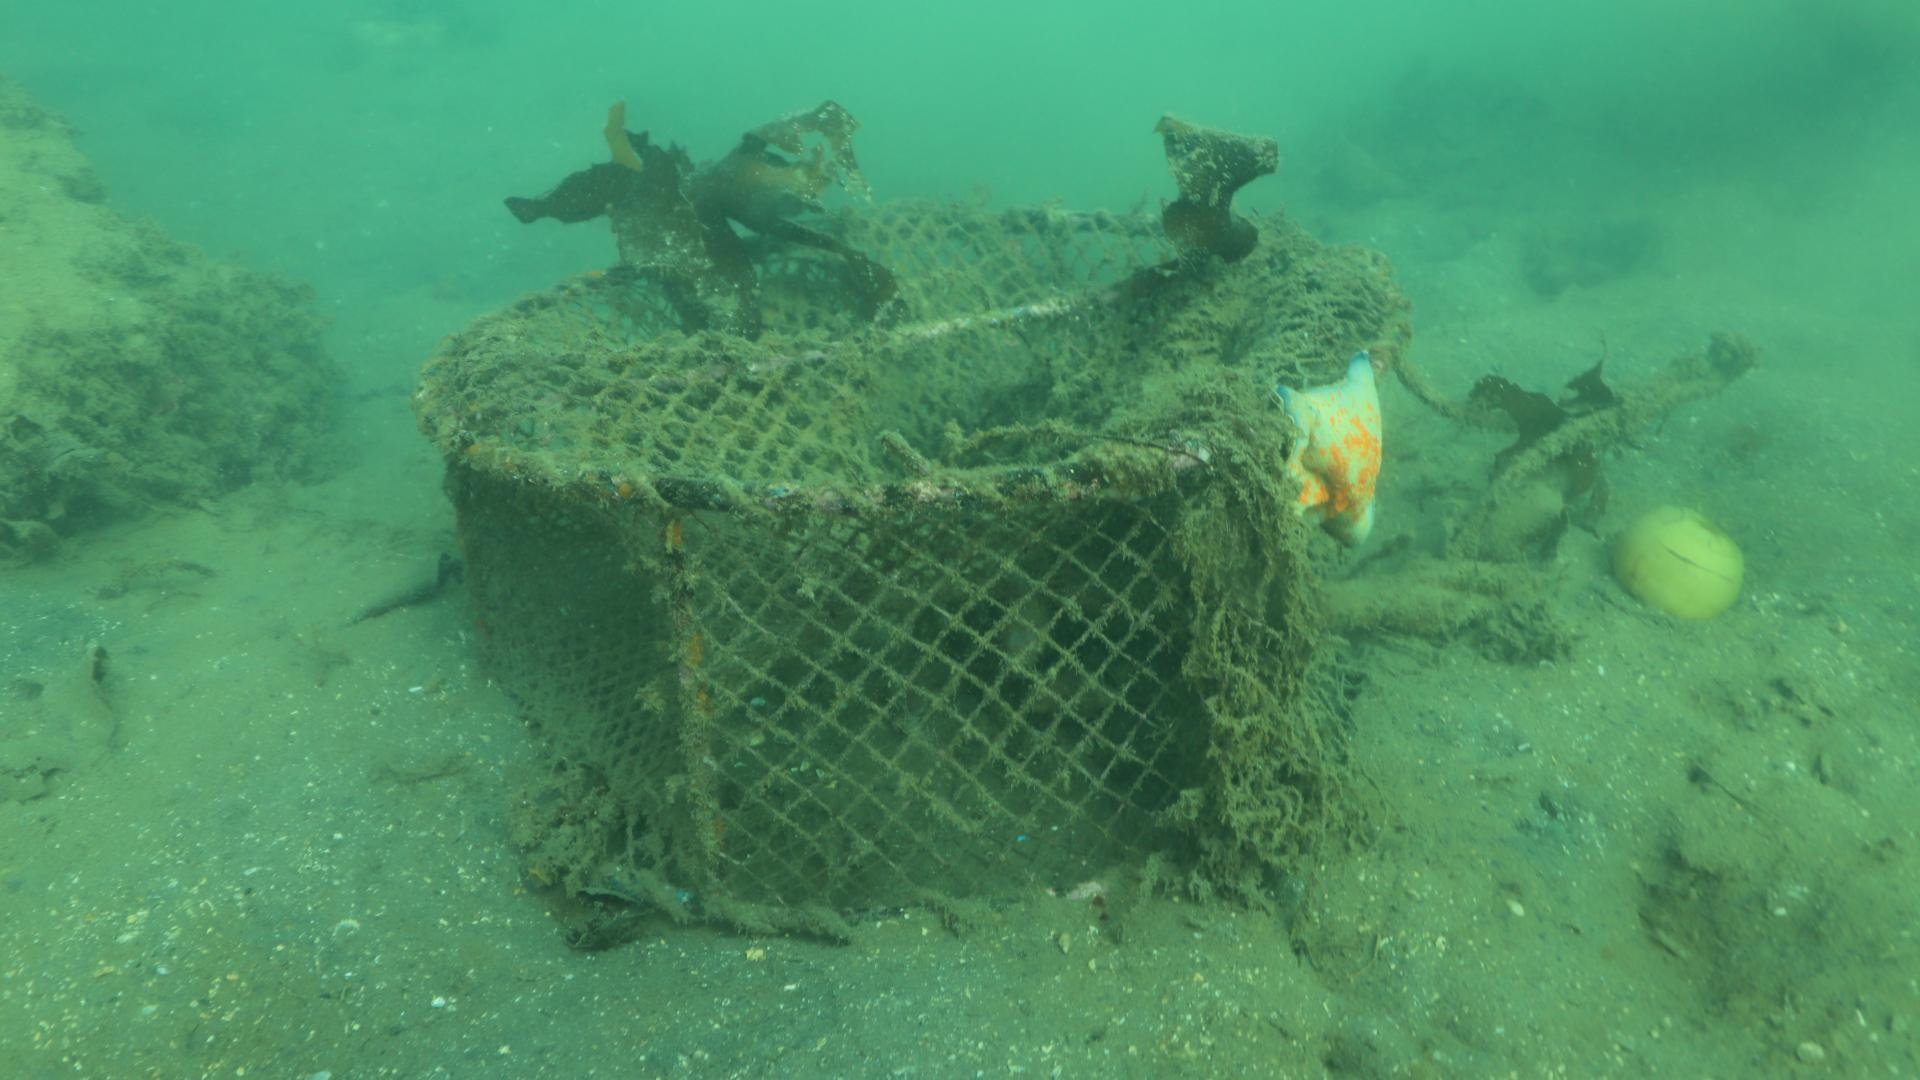circular fish trap: (402, 194, 1404, 938)
